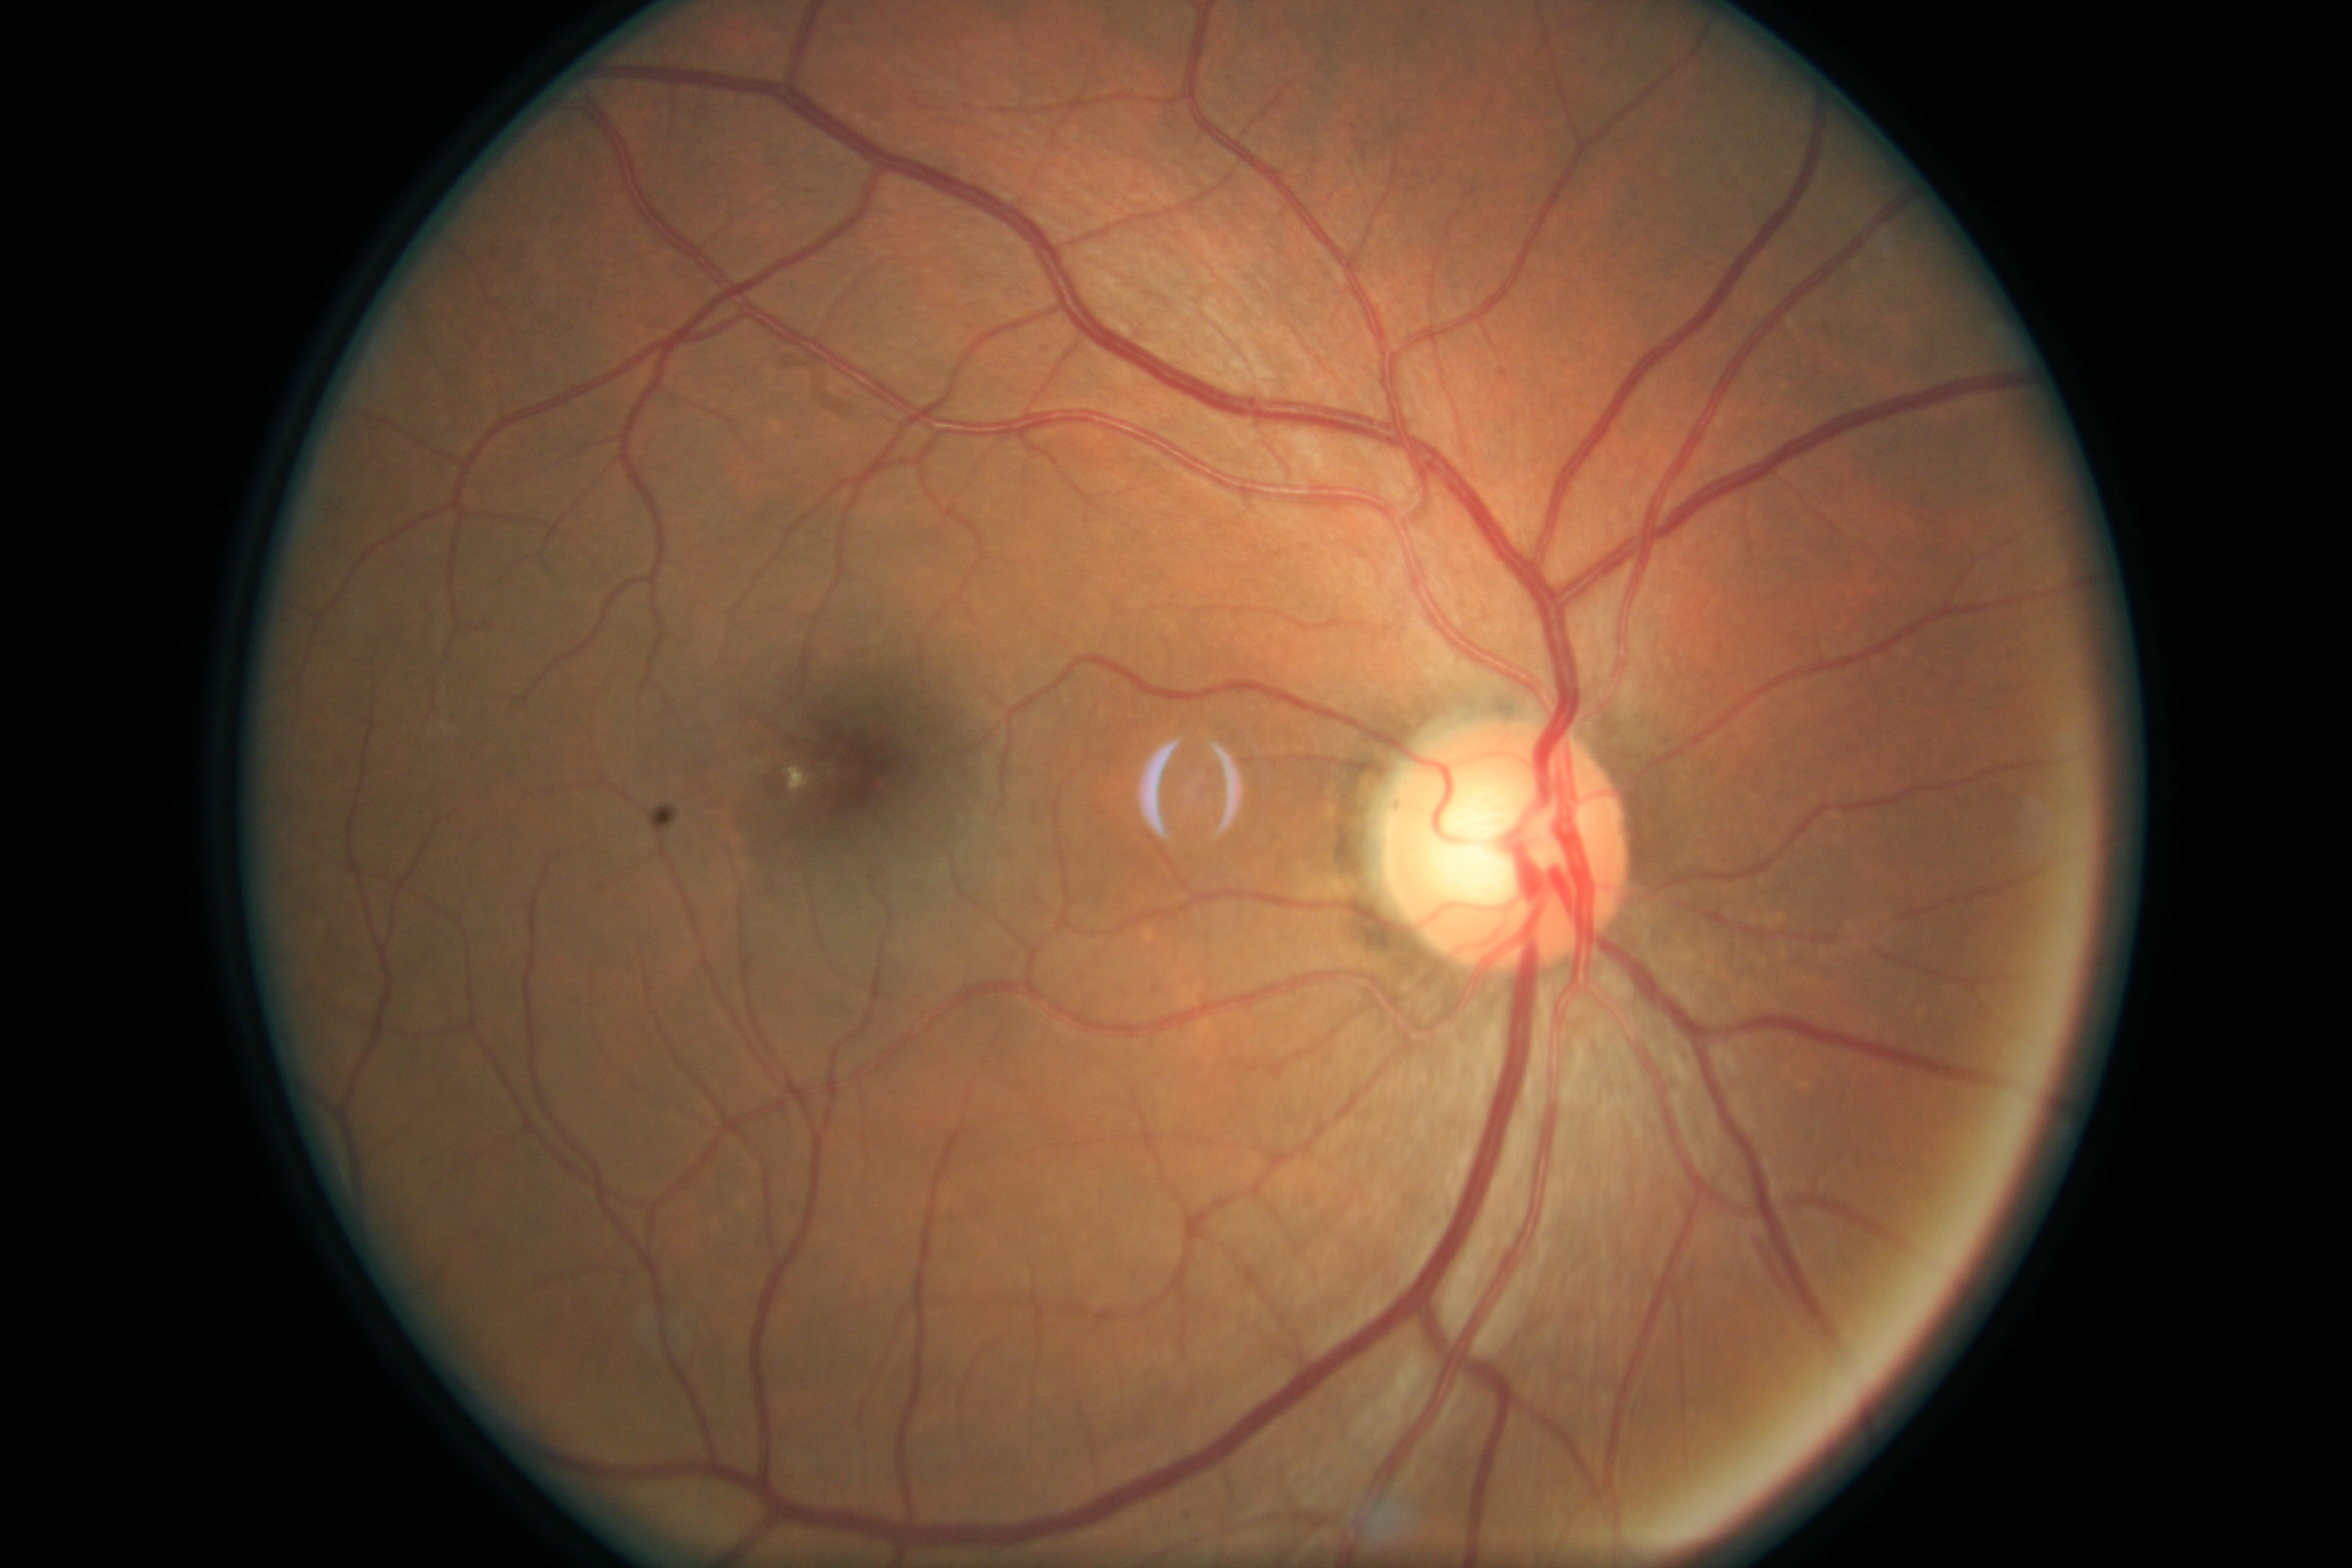Fovea: (758, 705, 941, 859)
OD: (1353, 709, 1641, 980)
